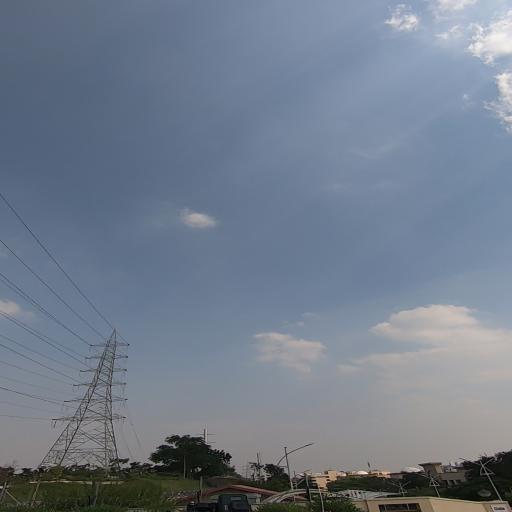Street_light: (296, 442, 320, 453)
